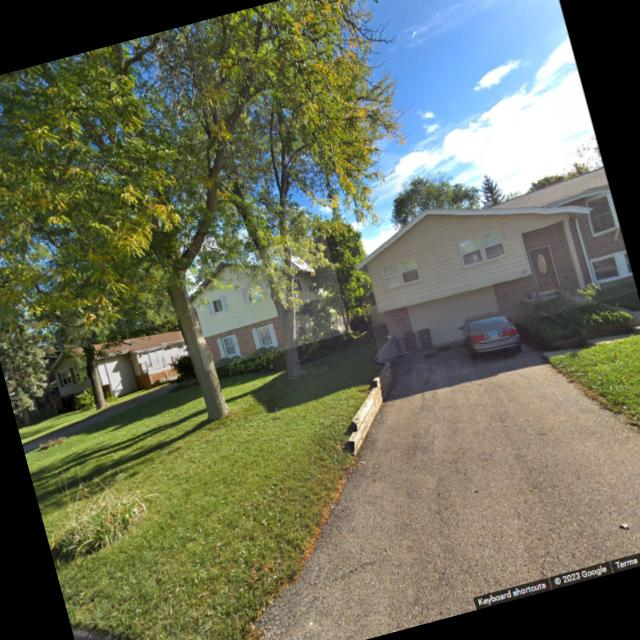House: (347, 164, 638, 360), (178, 232, 350, 370), (43, 318, 196, 414)
